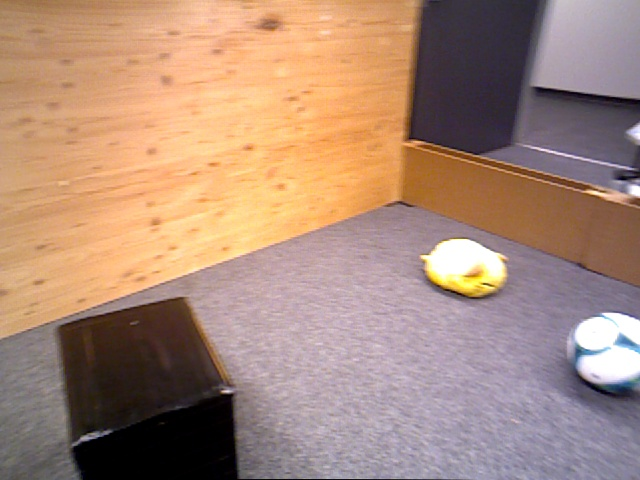grasp: (422, 236, 507, 300)
kick: (567, 311, 640, 396)
push: (55, 296, 239, 480)
